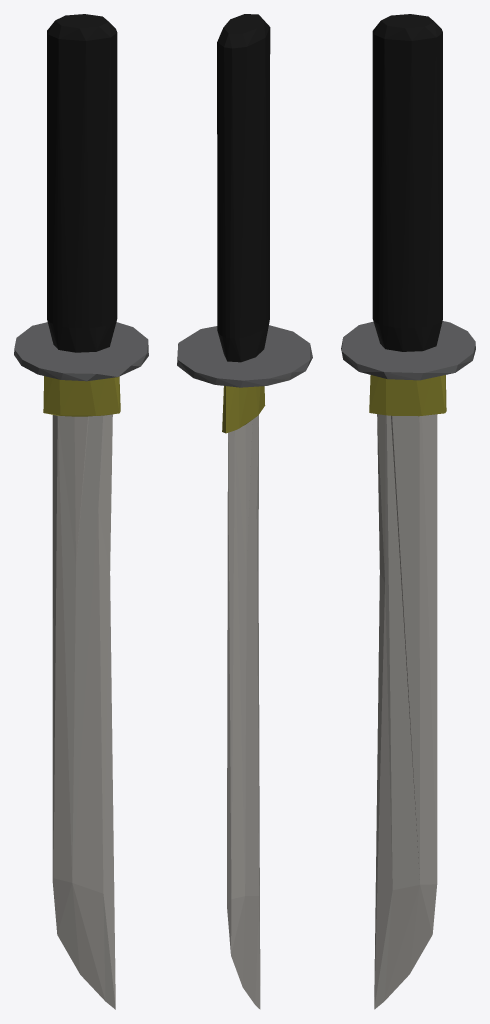
Rendered from Tanto1.fbx.
3 renders of one model, left to right at view 1: azimuth 90°, elevation 25°; view 2: azimuth 150°, elevation 25°; view 3: azimuth 270°, elevation 25°, orthographic.
Parts seen in each view (by area): view 1: Tanto; view 2: Tanto; view 3: Tanto.
Boxes of the visible parts, x1,y1,x2,y2 form: Tanto: (14, 14, 148, 1009); Tanto: (177, 14, 312, 1009); Tanto: (341, 14, 475, 1009).
Size of the model in its own units: 2.53 by 20.5 by 2.53.
